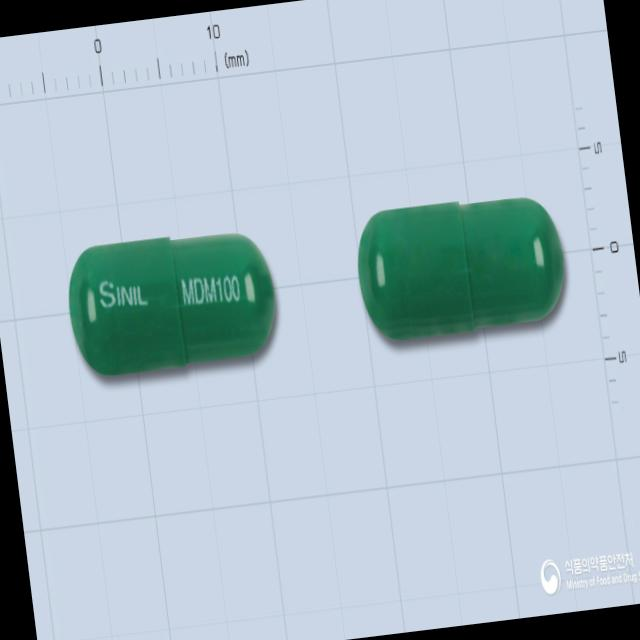Monodoxy-M Cap- Sinil: (61, 225, 282, 386)
